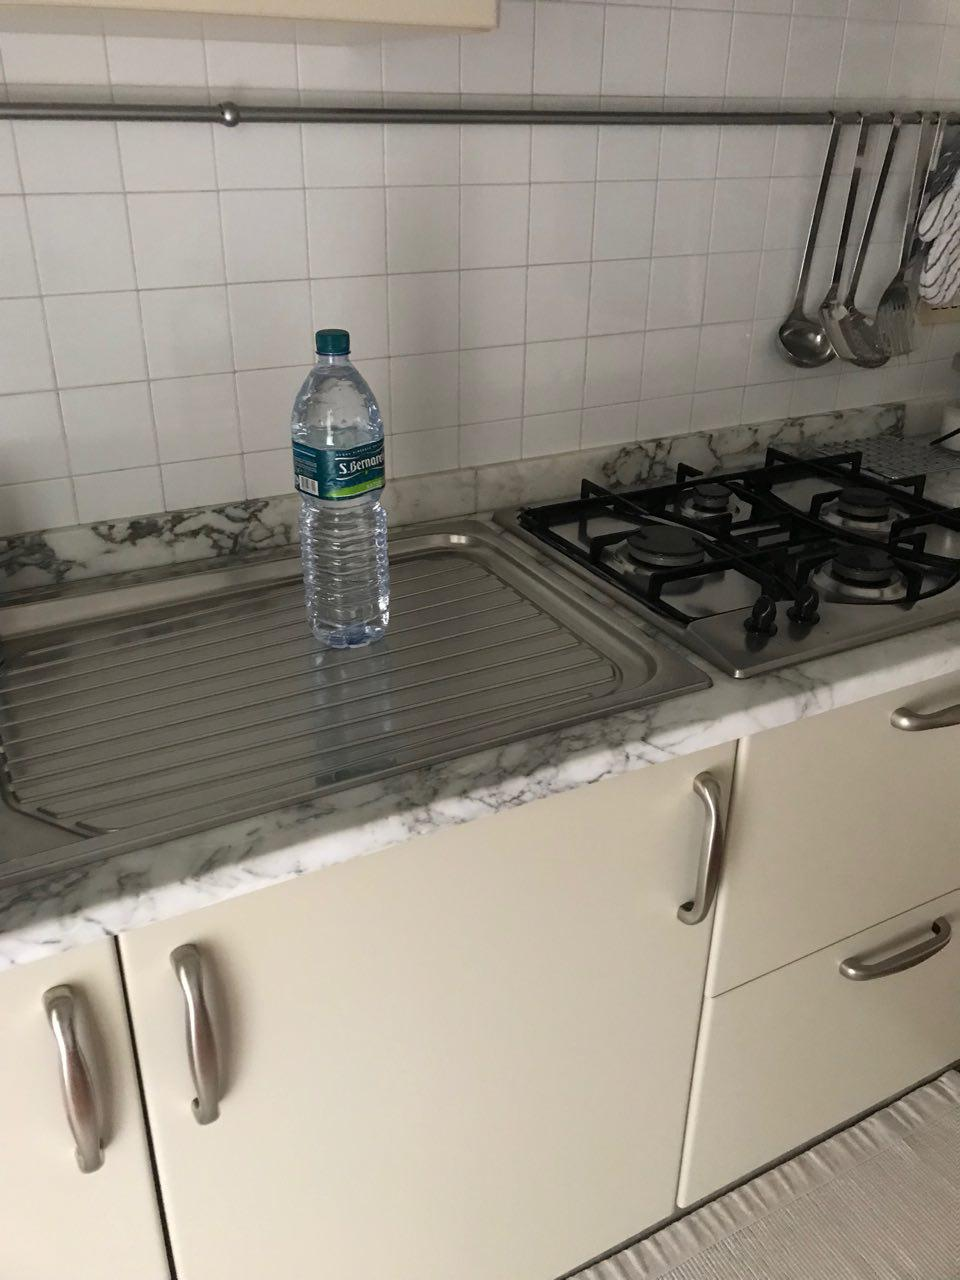san_bernardo: (289, 327, 390, 648)
